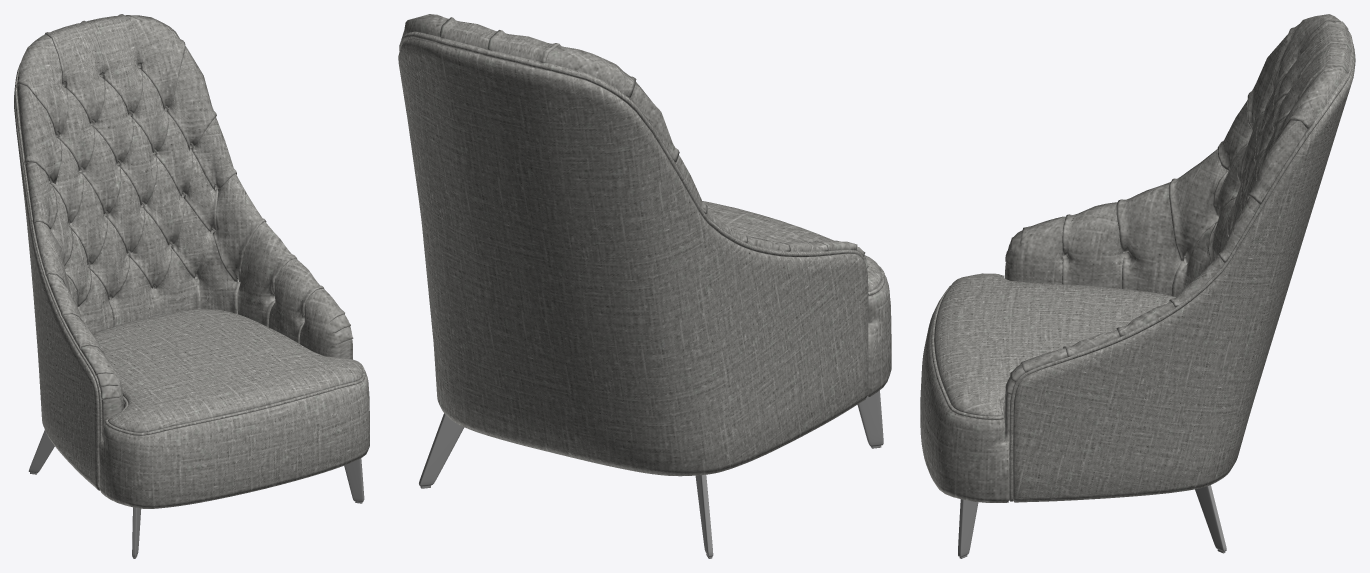
3 views of the same model, side by side, from view 1: azimuth 30°, elevation 25°; view 2: azimuth 150°, elevation 25°; view 3: azimuth 270°, elevation 25° (orthographic). The views are drawn at different scales.
Parts seen in each view (by area): view 1: Material-Pelle, Material-gambe_vanessa; view 2: Material-Pelle, Material-gambe_vanessa; view 3: Material-Pelle, Material-gambe_vanessa.
Part boxes in pixels (<box>): Material-Pelle: <box>14,14,369,508</box>; Material-gambe_vanessa: <box>28,430,364,558</box>; Material-Pelle: <box>398,14,891,476</box>; Material-gambe_vanessa: <box>419,390,883,558</box>; Material-Pelle: <box>920,14,1355,502</box>; Material-gambe_vanessa: <box>958,485,1226,558</box>.
Bounding box in the file's own units: 0.6722 × 0.9712 × 0.8458.
2 materials, 1 textured.
